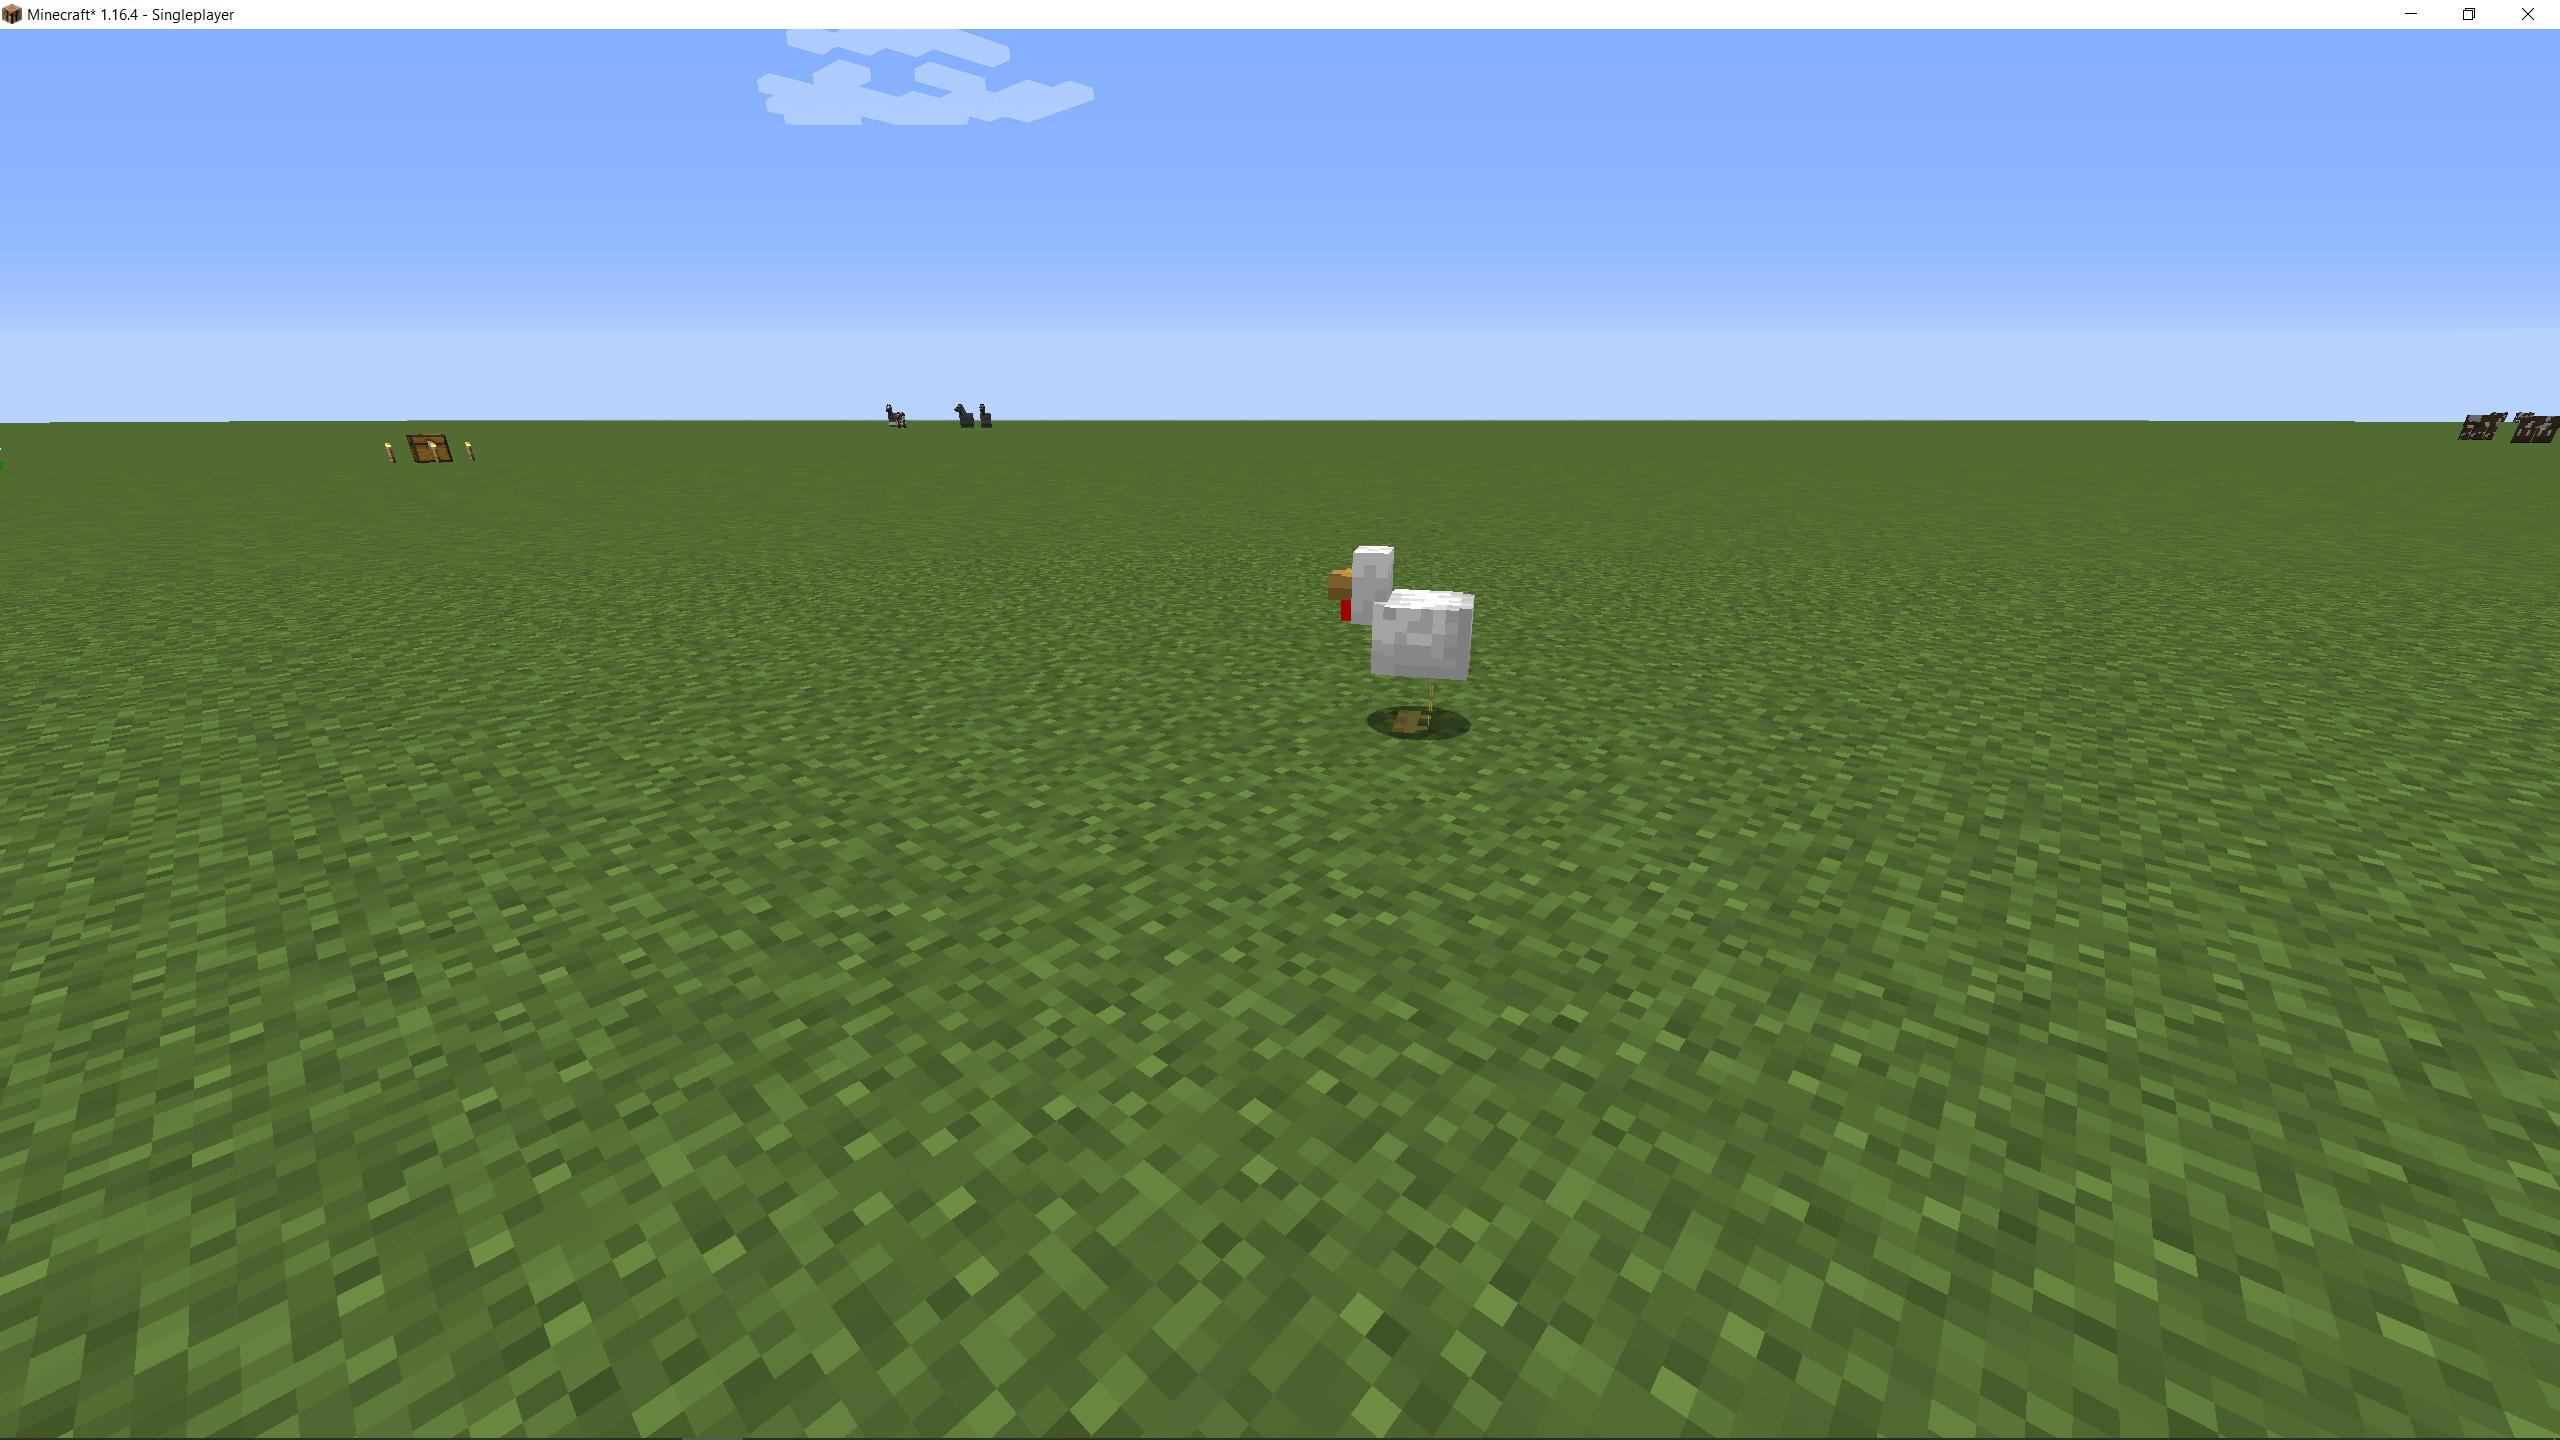chicken: (1322, 535, 1479, 747)
